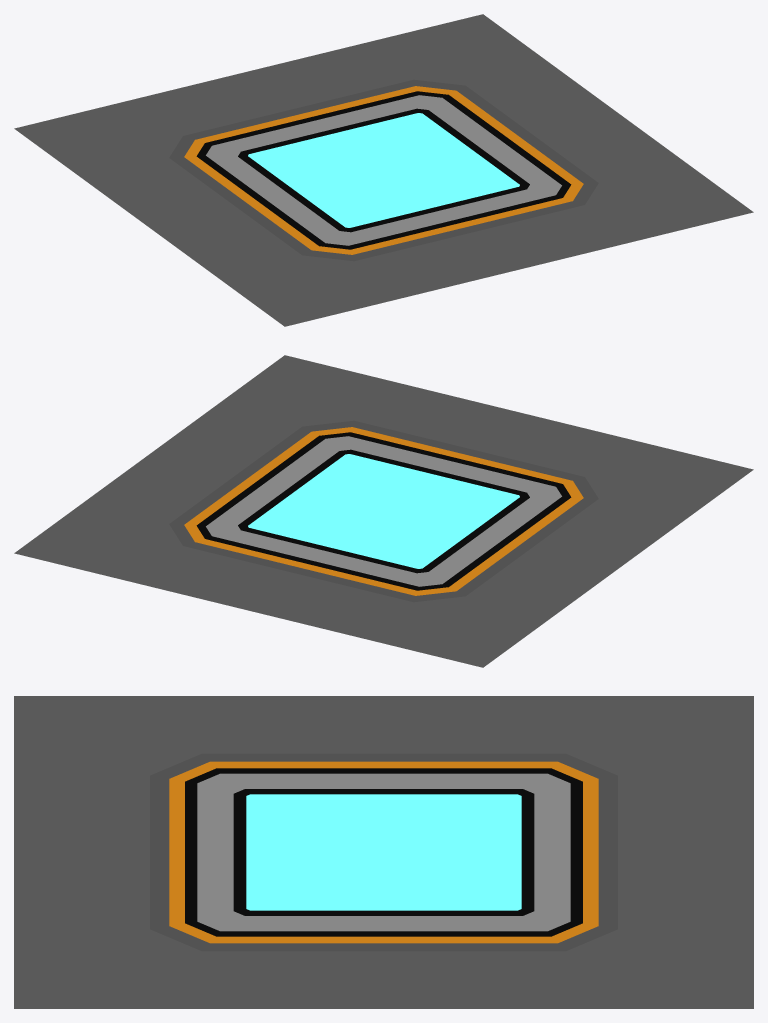
Rendered from Environment2_Ground_TileSmallSquare.fbx.
3 views of the same model, one above another, from view 1: azimuth 30°, elevation 25°; view 2: azimuth 150°, elevation 25°; view 3: azimuth 270°, elevation 25° (orthographic). The views are drawn at different scales.
Parts seen in each view (by area): view 1: SmallGround Cube; view 2: SmallGround Cube; view 3: SmallGround Cube.
Boxes of the visible parts, <box> form: SmallGround Cube: <box>14,14,753,326</box>; SmallGround Cube: <box>14,355,753,667</box>; SmallGround Cube: <box>14,696,753,1008</box>.
Size of the model in its own units: 2000 by 0.000326 by 2000.
